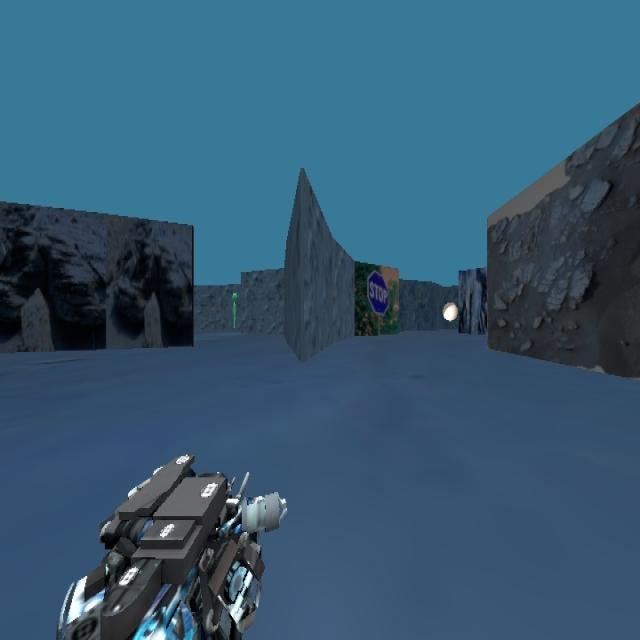Alien: (225, 284, 248, 356)
Circle: (442, 302, 458, 322)
Stop_Sign: (366, 269, 389, 316)
